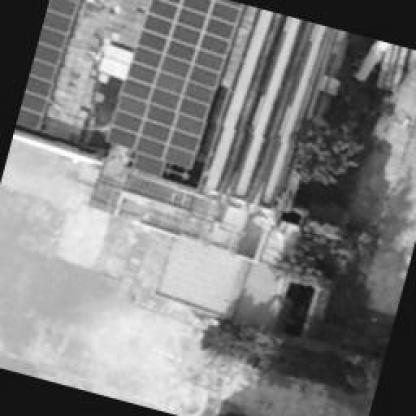solar-pv-panel: (106, 0, 243, 167)
